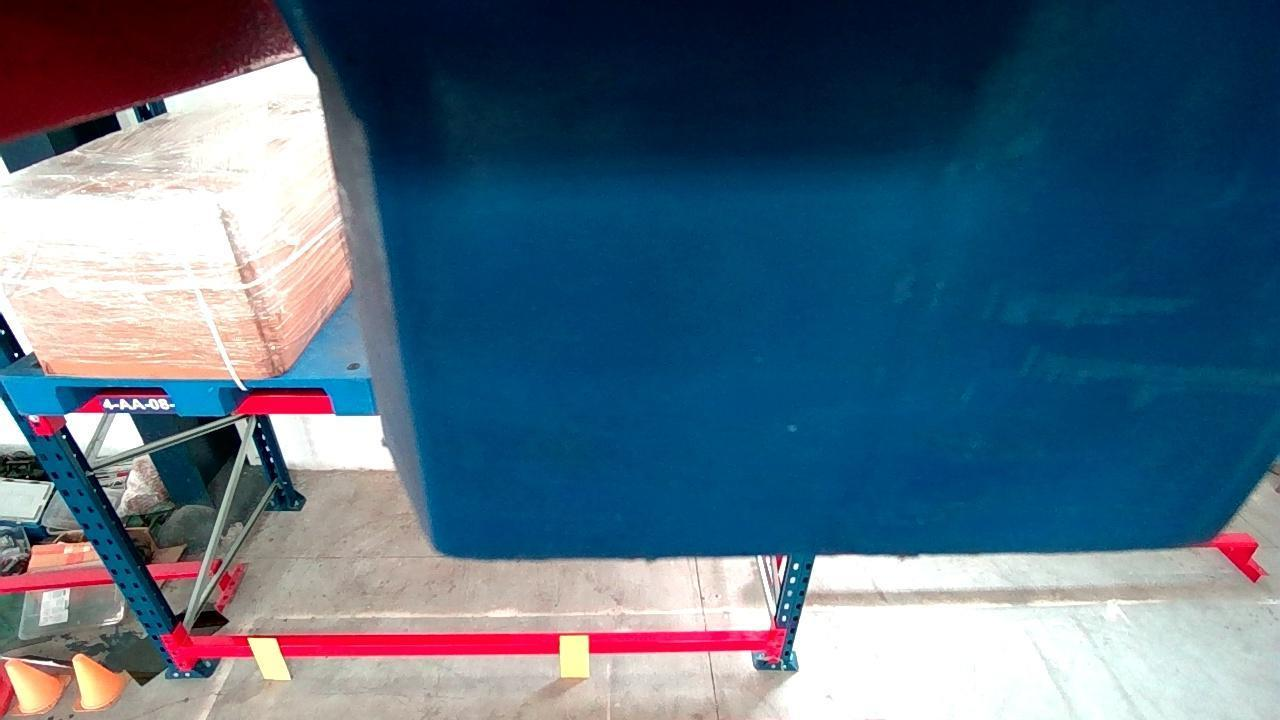h_rack: (174, 638, 778, 661), (78, 385, 387, 413)
orange_strip: (246, 635, 292, 679), (555, 633, 585, 679)
small_pallet: (2, 374, 380, 420)
